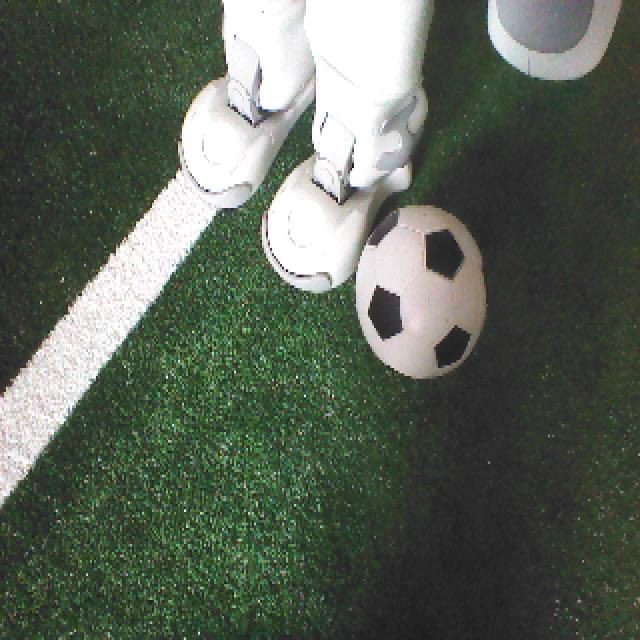ball: (352, 198, 490, 390)
